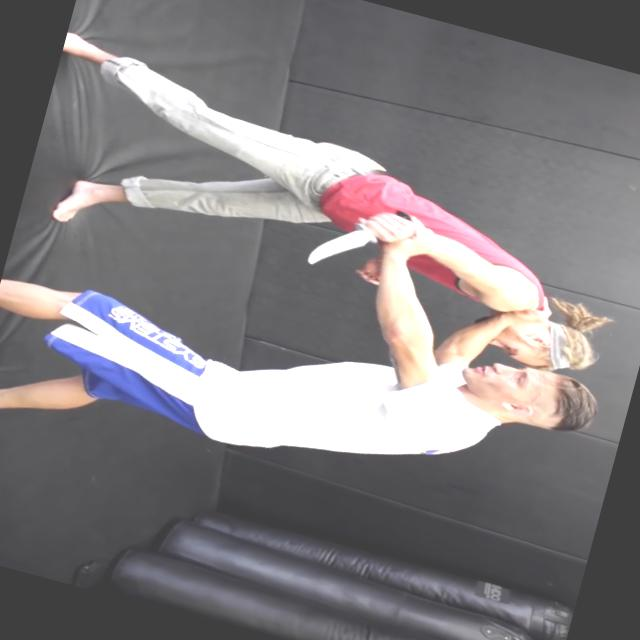knife: (293, 186, 421, 292)
